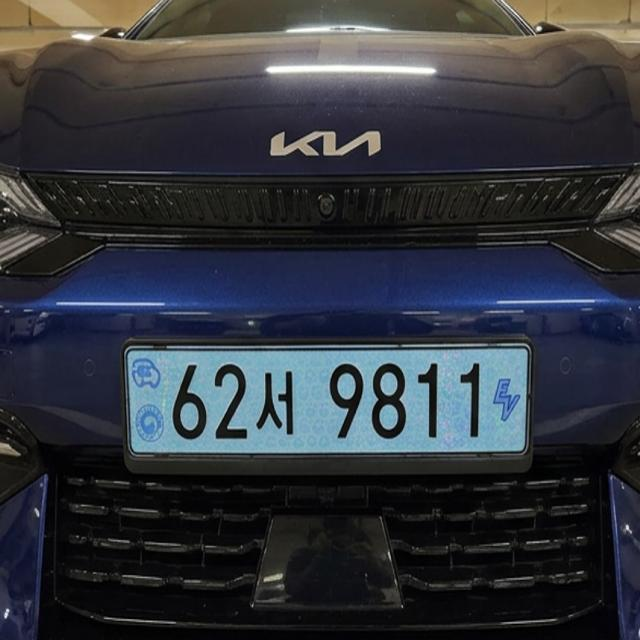car: (102, 302, 561, 516)
carev: (125, 347, 169, 452), (488, 345, 529, 448)
